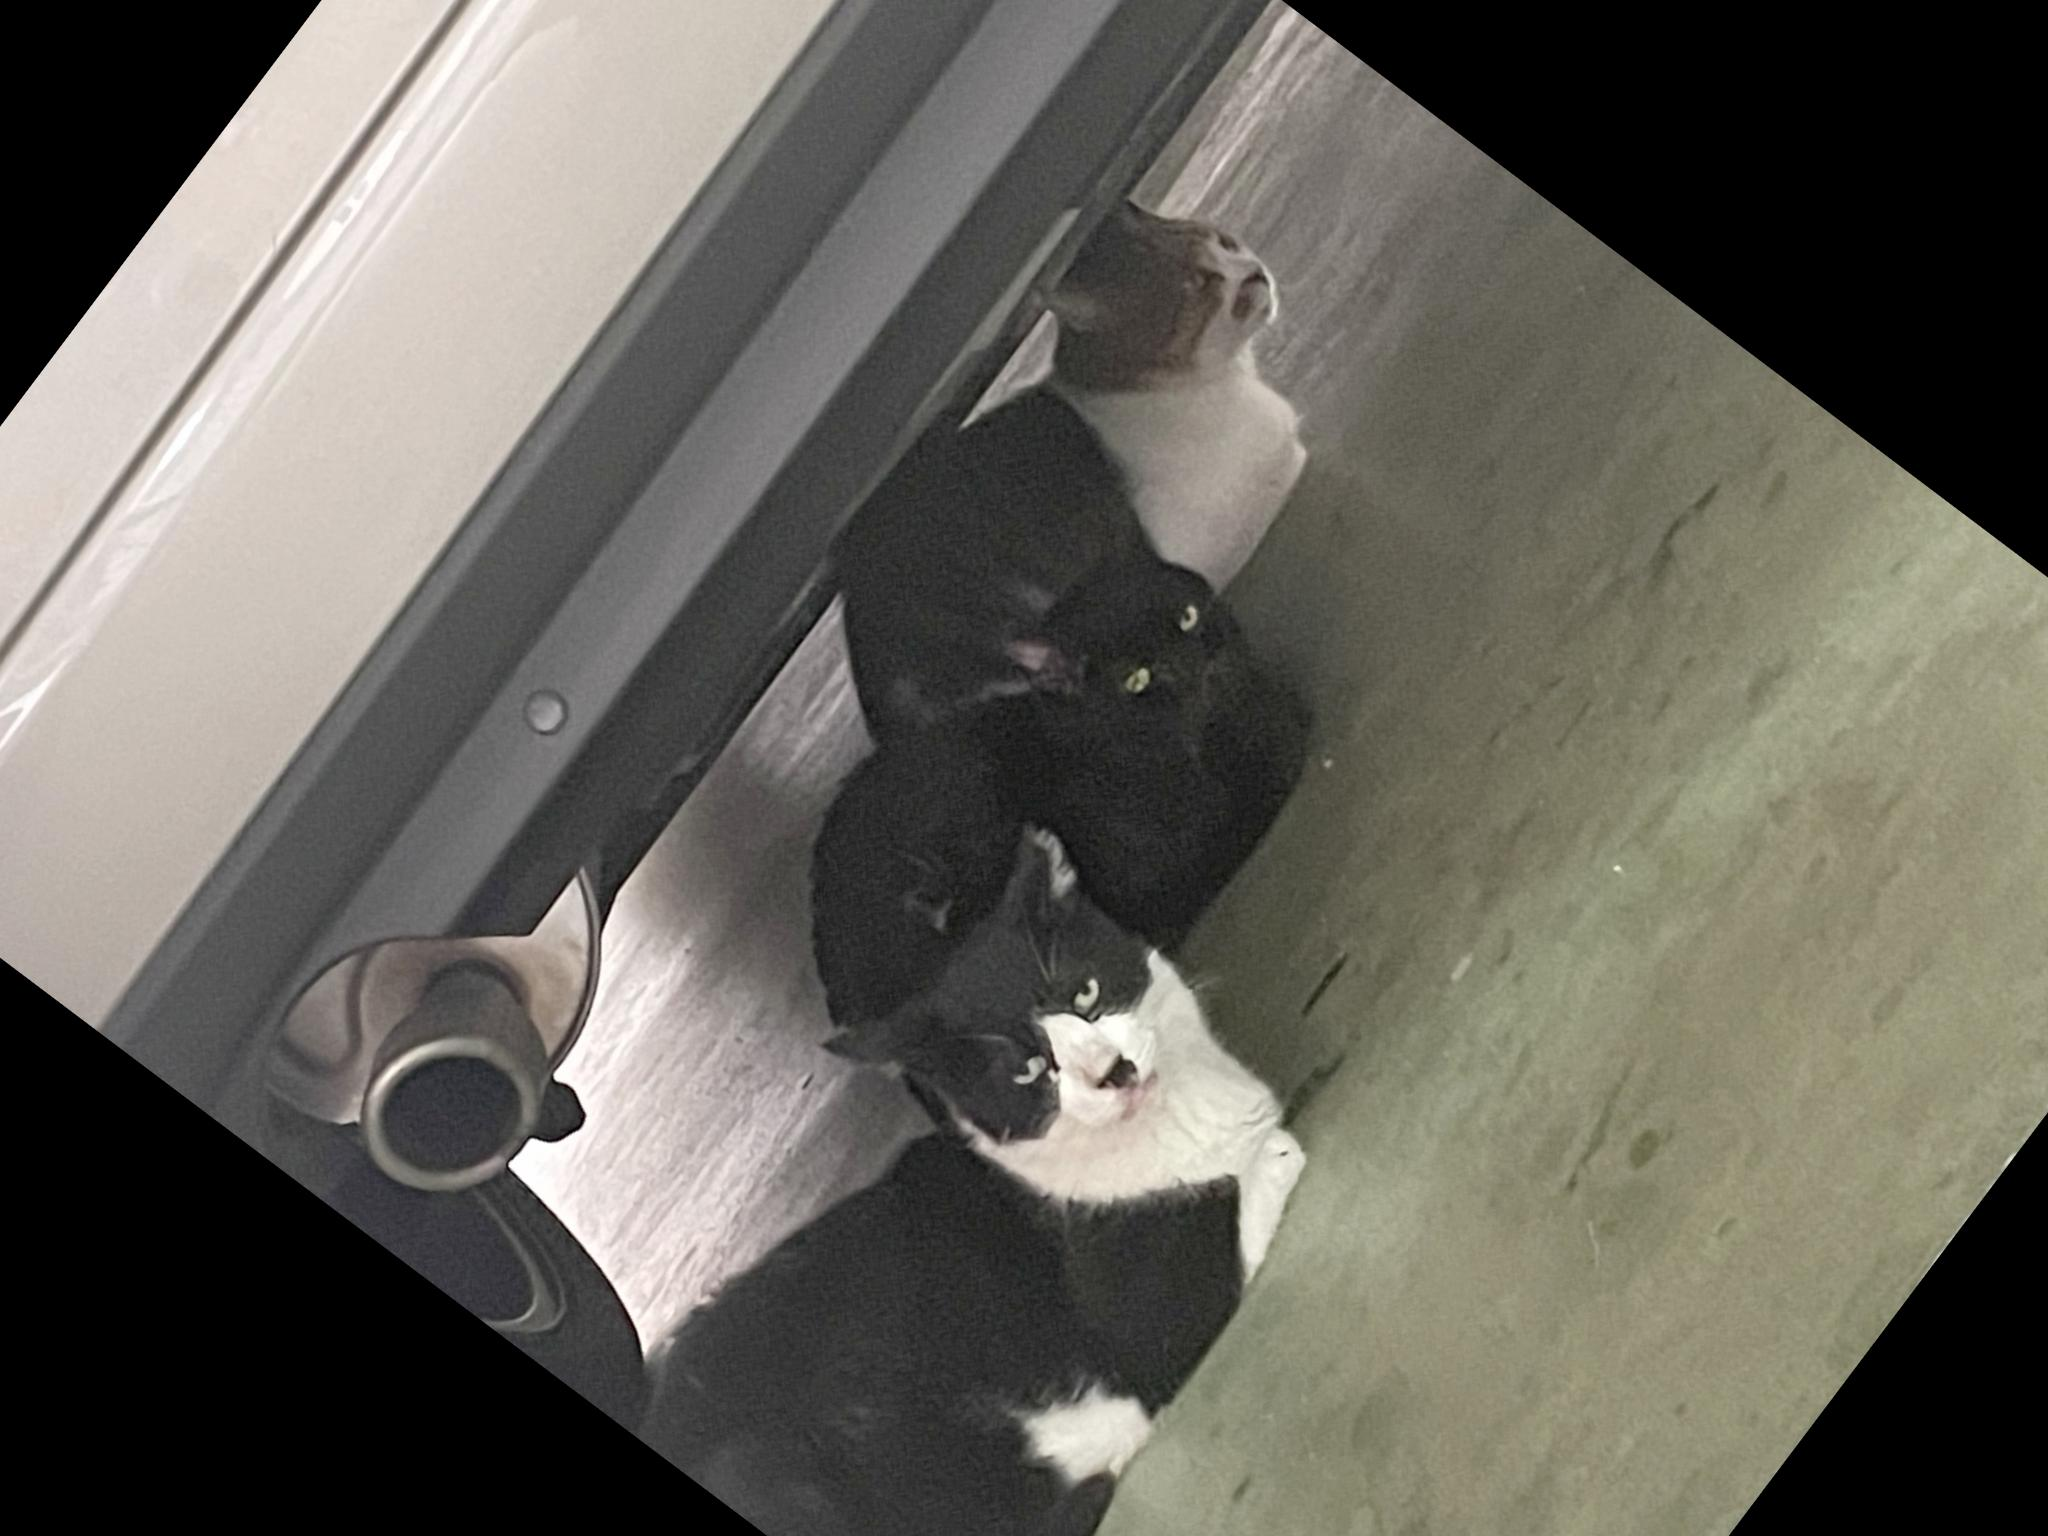cat: (0, 365, 632, 1205), (576, 541, 1282, 1192), (264, 508, 959, 1162)
